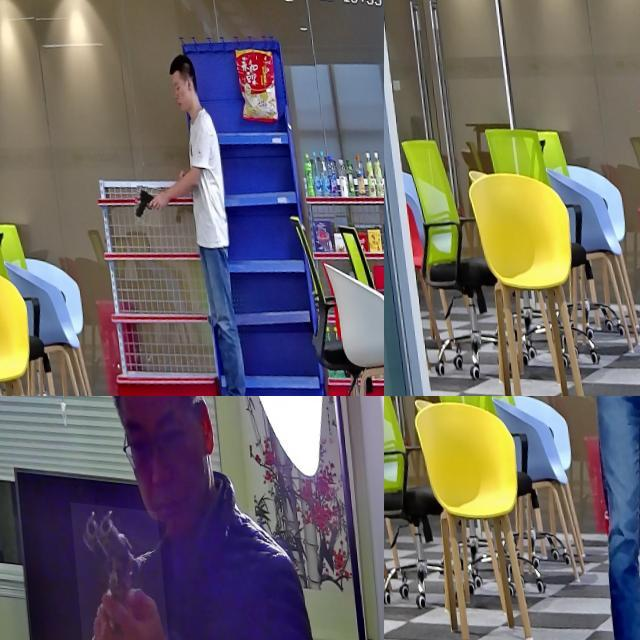gun-knife-thesis - v11 Yolov5 augmented: (62, 495, 162, 640), (127, 175, 158, 219)
